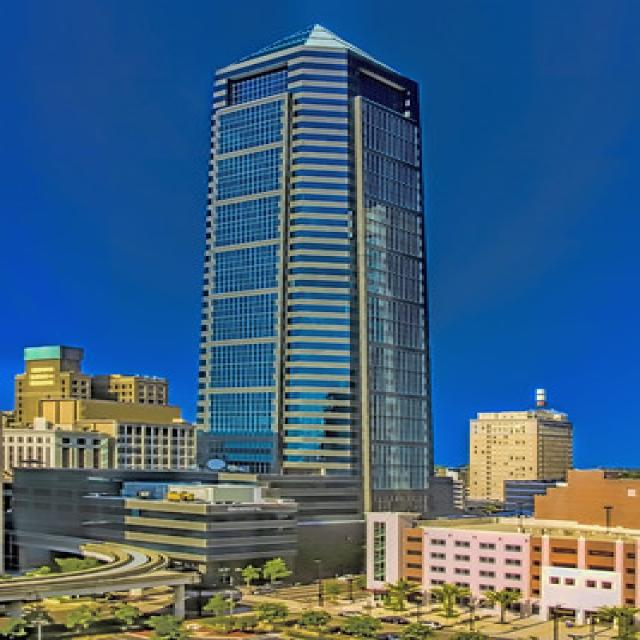building: (198, 26, 437, 579)
